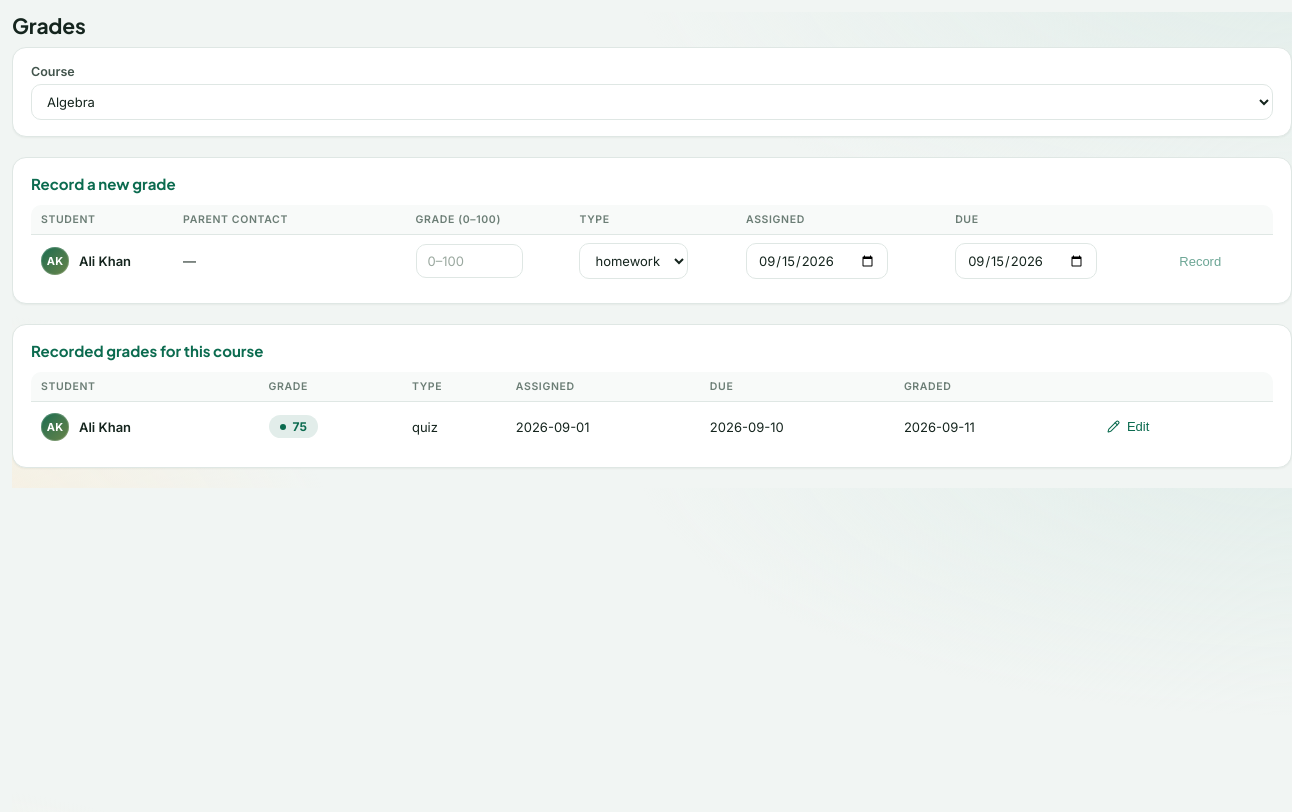
Grades page › rejects a due date before the assigned date
Type "50" into the number field with placeholder "0–100". click: (469, 261)
box: [416,244,522,278]
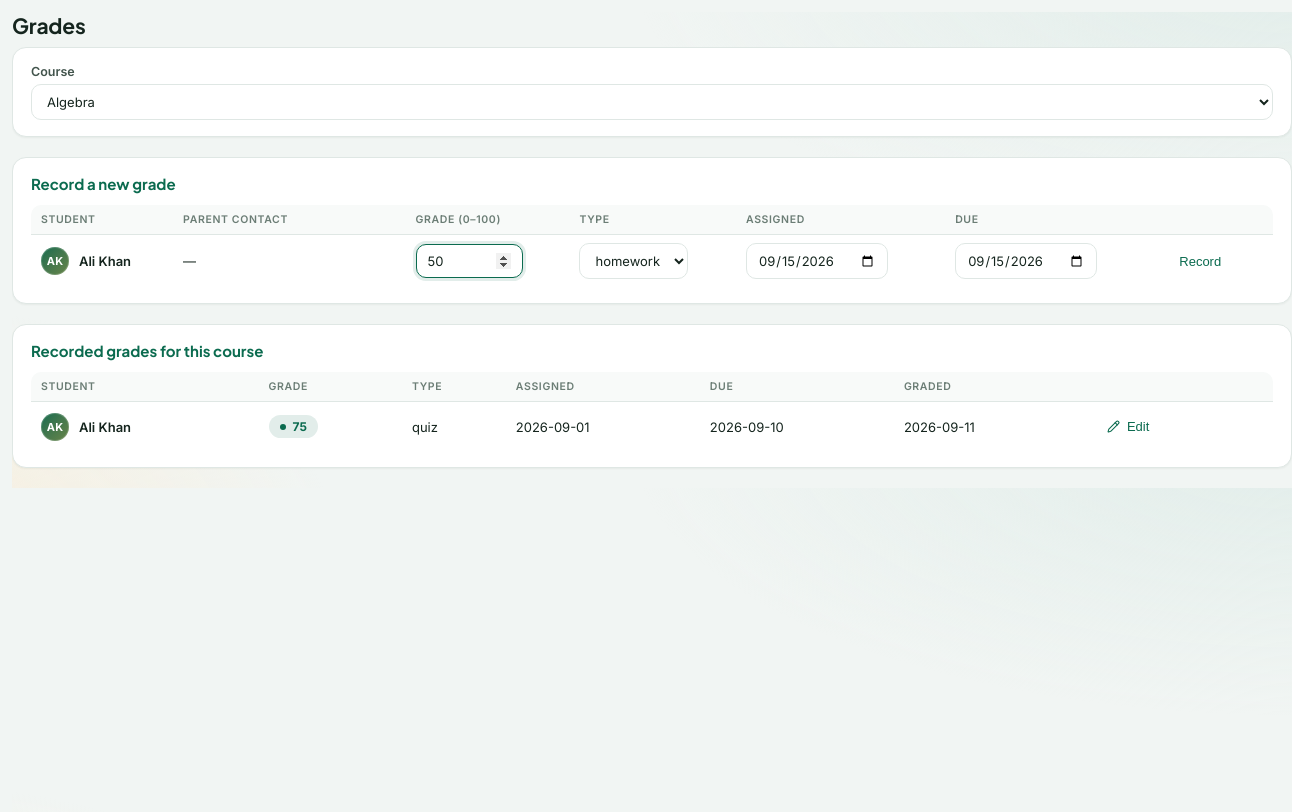
Type "2020-01-01" into the 2nd date field. click: (1026, 261)
box: [955,243,1097,279]
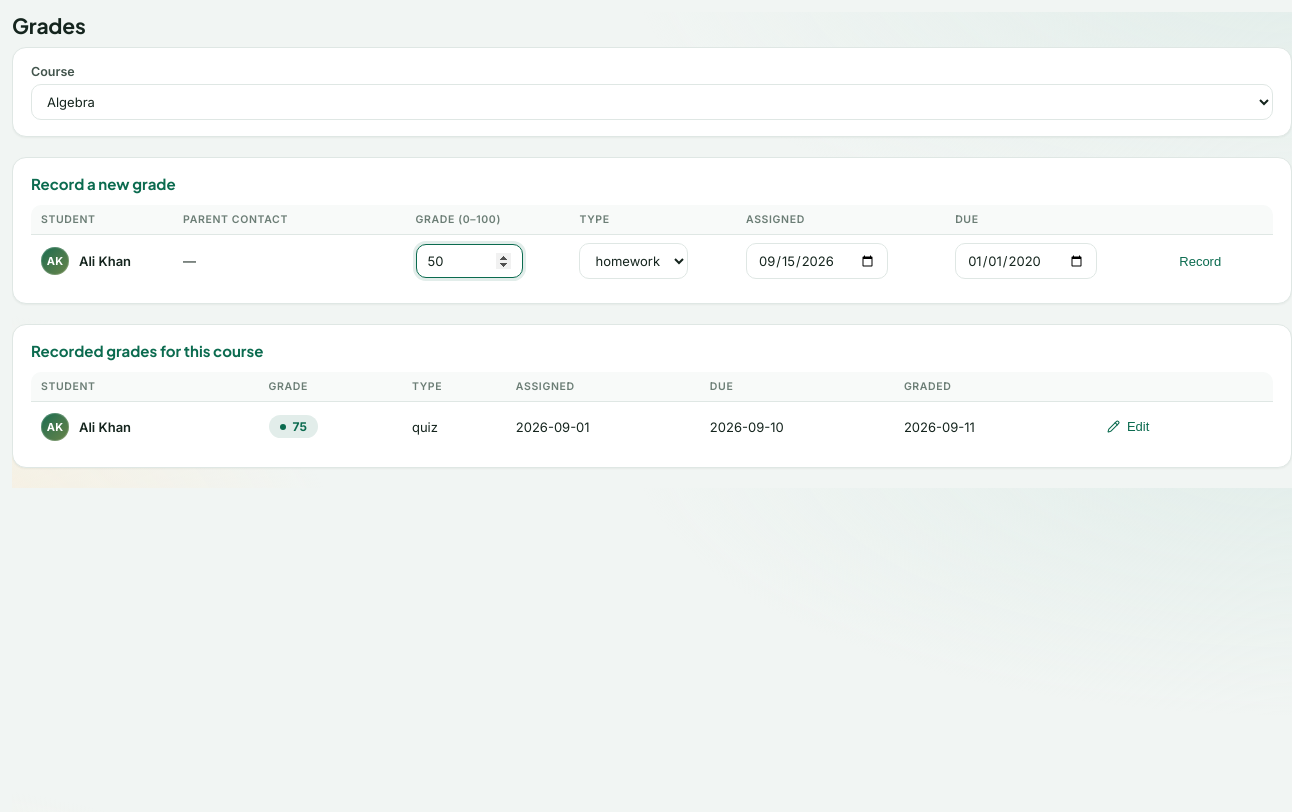
Click the button "Record". click: (1200, 261)
box: [1164,244,1236,278]
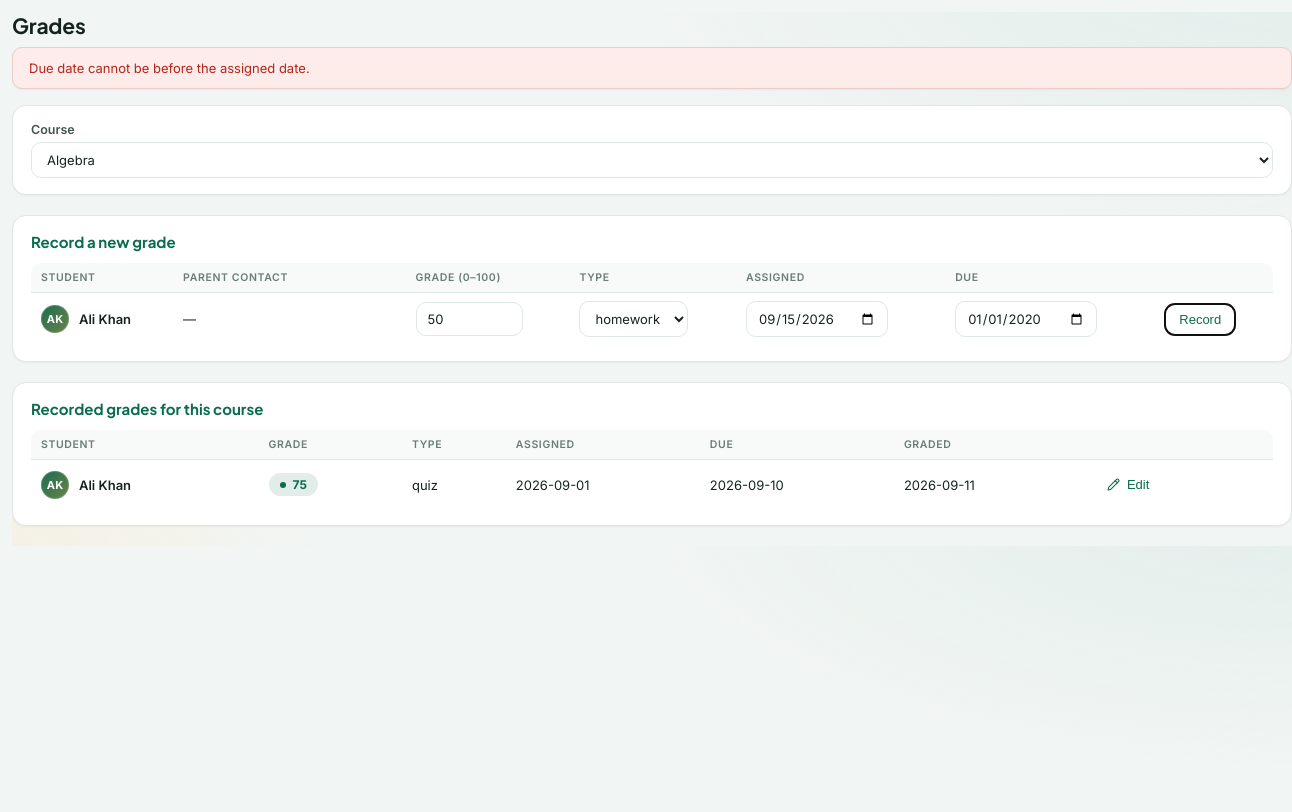
Expected: the text "Due date cannot be before the assigned date." is shown, [12,47,1291,89]
